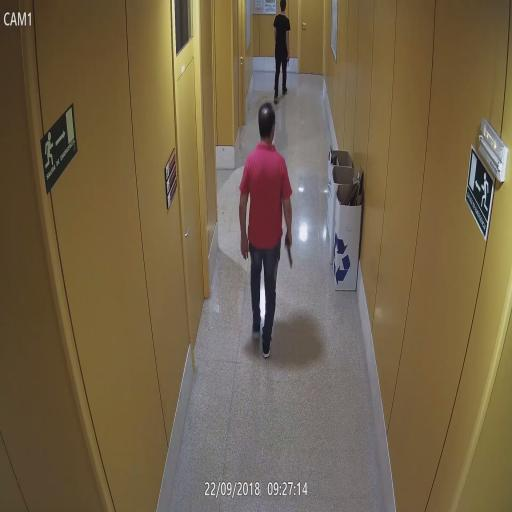Handgun: (284, 230, 294, 270), (284, 52, 292, 66)
